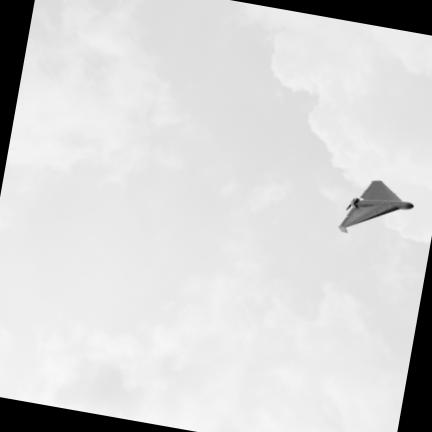Shahed: (338, 174, 417, 241)
